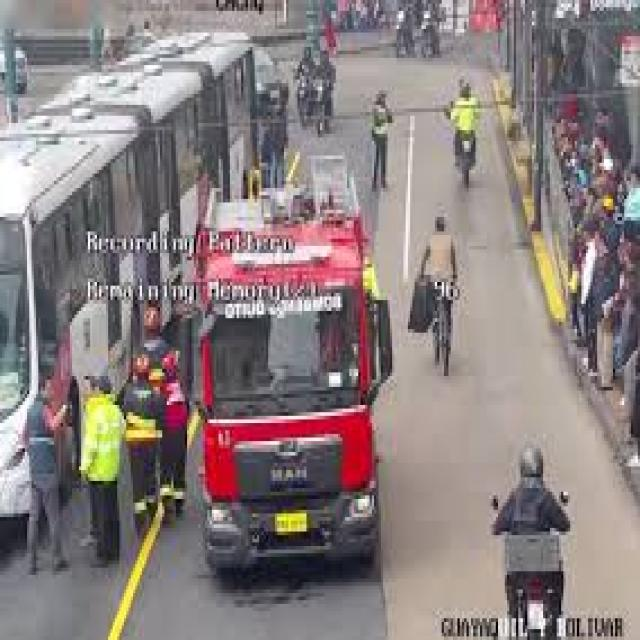TRUCK: (193, 205, 386, 573)
